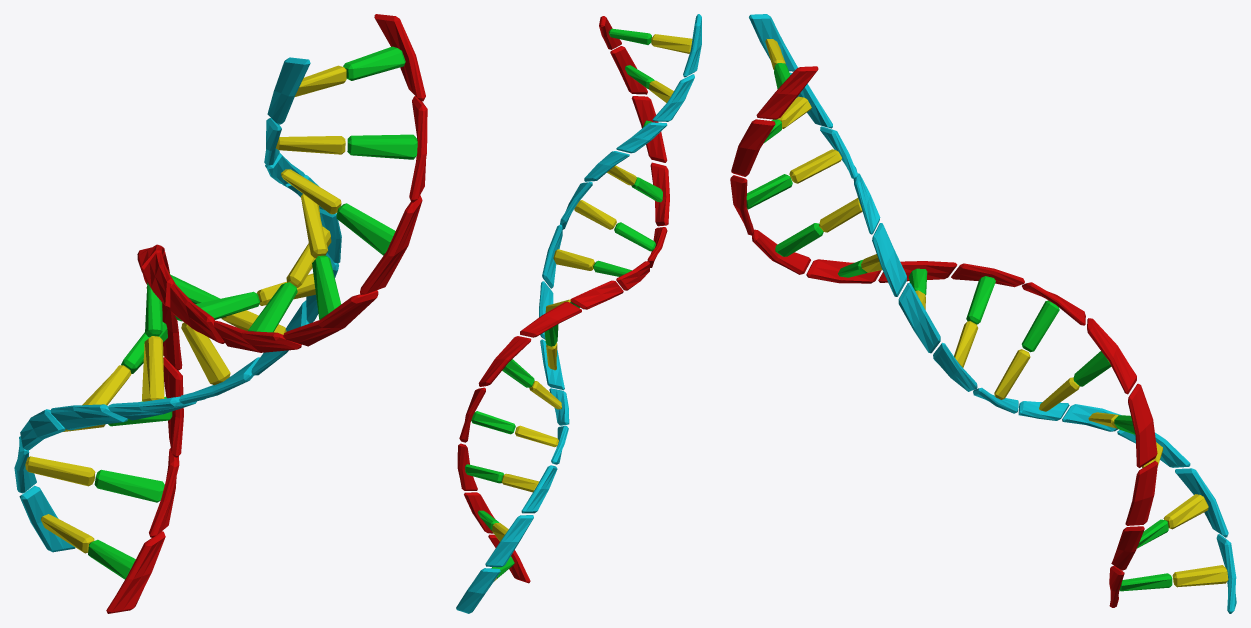
File: DNA_curve.fbx
3 views of the same model, side by side, from view 1: azimuth 30°, elevation 25°; view 2: azimuth 150°, elevation 25°; view 3: azimuth 270°, elevation 25° (orthographic). The views are drawn at different scales.
Visible parts, largest first — view 1: Cube_7, Cube_5, Cube_25, Cube_2_3, Cube, Cube_9, Cube_2_2, Cube_2_13, Cube_2_4, Cube_26, Cube_20, Cube_1_9 (+30 smaller); view 2: Cube_24, Cube_15, Cube_5, Cube_26, Cube_7, Cube_17, Cube_13, Cube_4, Cube_3, Cube_6, Cube_22, Cube_12 (+26 smaller); view 3: Cube_19, Cube_12, Cube, Cube_17, Cube_21, Cube_3, Cube_10, Cube_24, Cube_9, Cube_7, Cube_1_13, Cube_2_2 (+21 smaller).
Part boxes in pixels (<box>): Cube_7: <box>283,290,378,346</box>; Cube_5: <box>360,195,422,294</box>; Cube_25: <box>106,531,165,613</box>; Cube_2_3: <box>347,134,417,159</box>; Cube: <box>374,14,425,101</box>; Cube_9: <box>214,321,301,352</box>; Cube_2_2: <box>267,57,310,124</box>; Cube_2_13: <box>94,469,164,502</box>; Cube_2_4: <box>336,203,395,255</box>; Cube_26: <box>19,485,75,552</box>; Cube_20: <box>50,404,127,430</box>; Cube_1_9: <box>142,336,164,401</box>; Cube_24: <box>485,515,533,567</box>; Cube_15: <box>520,302,581,337</box>; Cube_5: <box>631,96,667,162</box>; Cube_26: <box>456,568,500,613</box>; Cube_7: <box>650,162,669,226</box>; Cube_17: <box>478,336,531,386</box>; Cube_13: <box>570,280,623,309</box>; Cube_4: <box>652,74,694,121</box>; Cube_3: <box>610,46,647,94</box>; Cube_6: <box>616,122,667,153</box>; Cube_22: <box>521,465,557,513</box>; Cube_12: <box>542,224,562,288</box>; Cube_19: <box>1128,383,1157,467</box>; Cube_12: <box>898,283,940,353</box>; Cube: <box>756,66,818,119</box>; Cube_17: <box>1087,318,1136,394</box>; Cube_21: <box>1125,461,1157,525</box>; Cube_3: <box>731,119,775,176</box>; Cube_10: <box>872,223,906,296</box>; Cube_24: <box>1175,468,1228,537</box>; Cube_9: <box>806,259,881,283</box>; Cube_7: <box>752,229,810,274</box>; Cube_1_13: <box>1172,565,1228,587</box>; Cube_2_2: <box>749,14,797,71</box>.
Size of the model in its own units: 94.73 by 459 by 368.
